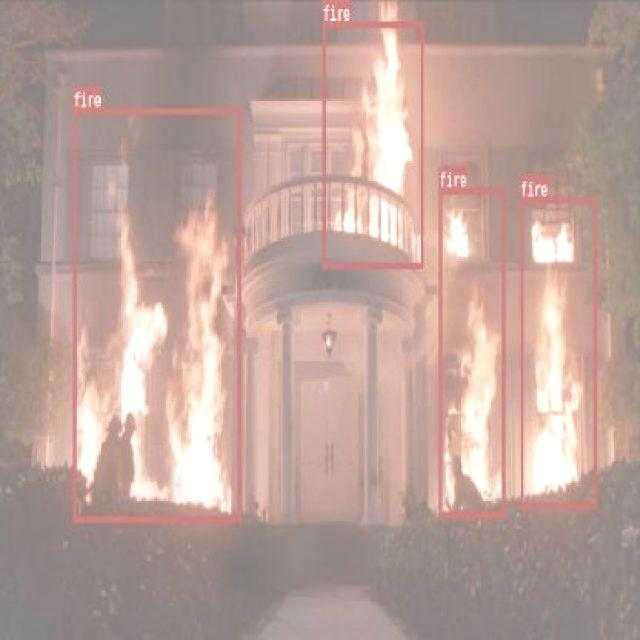fire: (72, 108, 240, 520), (322, 20, 422, 268), (519, 197, 596, 508), (438, 188, 504, 517)
